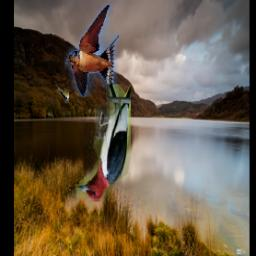Swallow: (65, 3, 120, 97), (54, 82, 69, 103)
Woodpecker: (76, 85, 131, 203)
